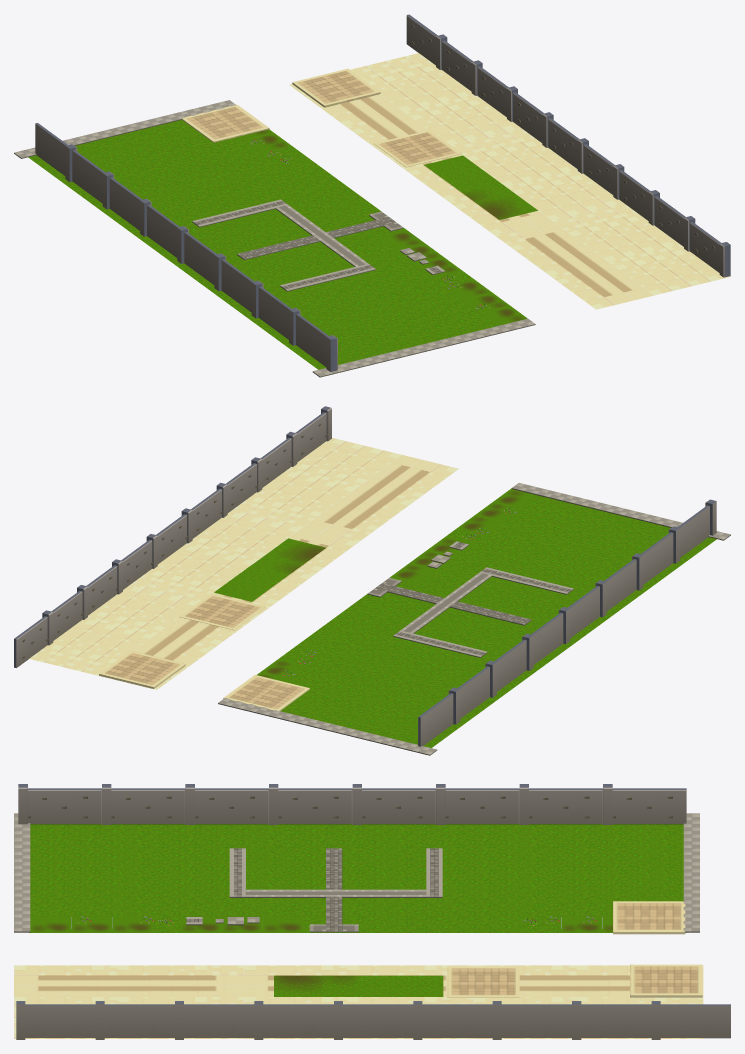
Rendered from Level_01_road_side.fbx.
3 renders of one model, top to bottom at view 1: azimuth 30°, elevation 25°; view 2: azimuth 150°, elevation 25°; view 3: azimuth 270°, elevation 25°, orthographic. The views are drawn at different scales.
Parts seen in each view (by area): view 1: Ground, road side big portion.002, wall.005, wall.006, road side big portion.001, road side big portion, floor.002, floor.001, Pavement_1C_4x4.001, floor.003, mud ground.002, Pavement_1C_4x4.003 (+6 smaller); view 2: Ground, road side big portion.002, wall.005, wall.006, road side big portion.001, road side big portion, floor.002, Pavement_1C_4x4.003, floor.003, floor.001, Pavement_1C_4x4.001, mud ground.002 (+6 smaller); view 3: Ground, wall.006, wall.005, road side big portion.001, road side big portion, road side big portion.002, floor.002, floor.001, floor.003, mud ground.002, Pavement_1C_4x4.003, Pavement_1C_4x4.001 (+7 smaller).
Part boxes in pixels (x1,y1,x2,y2): Ground: [28, 120, 527, 369]; road side big portion.002: [350, 53, 730, 295]; wall.005: [406, 14, 730, 277]; wall.006: [35, 123, 337, 371]; road side big portion.001: [341, 94, 653, 304]; road side big portion: [289, 84, 614, 309]; floor.002: [292, 68, 380, 107]; floor.001: [182, 104, 269, 142]; Pavement_1C_4x4.001: [312, 318, 535, 377]; floor.003: [374, 130, 461, 167]; mud ground.002: [445, 279, 526, 325]; Pavement_1C_4x4.003: [14, 100, 235, 158]; Ground: [257, 488, 716, 747]; road side big portion.002: [29, 437, 401, 675]; wall.005: [14, 406, 331, 667]; wall.006: [418, 499, 716, 746]; road side big portion.001: [100, 455, 440, 685]; road side big portion: [138, 464, 458, 689]; floor.002: [99, 650, 185, 688]; Pavement_1C_4x4.003: [218, 698, 437, 755]; floor.003: [179, 593, 265, 630]; floor.001: [223, 675, 309, 710]; Pavement_1C_4x4.001: [511, 483, 730, 540]; mud ground.002: [458, 489, 539, 534]; Ground: [29, 824, 686, 932]; wall.006: [18, 784, 686, 824]; wall.005: [16, 1001, 730, 1039]; road side big portion.001: [14, 975, 703, 996]; road side big portion: [14, 965, 703, 975]; road side big portion.002: [14, 997, 703, 1038]; floor.002: [630, 964, 702, 997]; floor.001: [613, 901, 685, 934]; floor.003: [447, 966, 519, 997]; mud ground.002: [30, 916, 152, 932]; Pavement_1C_4x4.003: [683, 813, 699, 932]; Pavement_1C_4x4.001: [14, 813, 30, 932].
Bounding box in the file's own units: 3959 × 320 × 5326.
